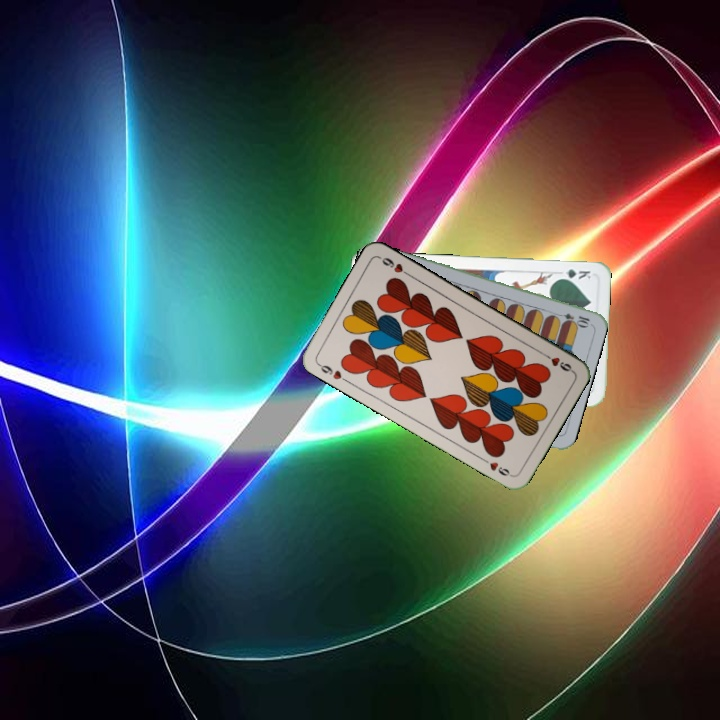E10: (552, 309, 592, 328)
GK: (554, 265, 593, 282)
H9: (538, 349, 575, 375), (314, 359, 344, 382)
